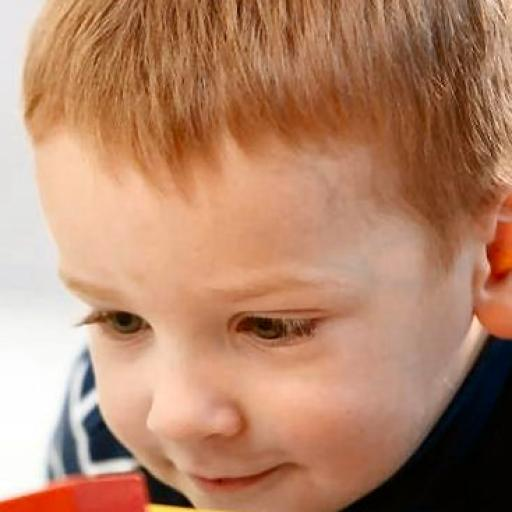Autism: (10, 9, 512, 509)
